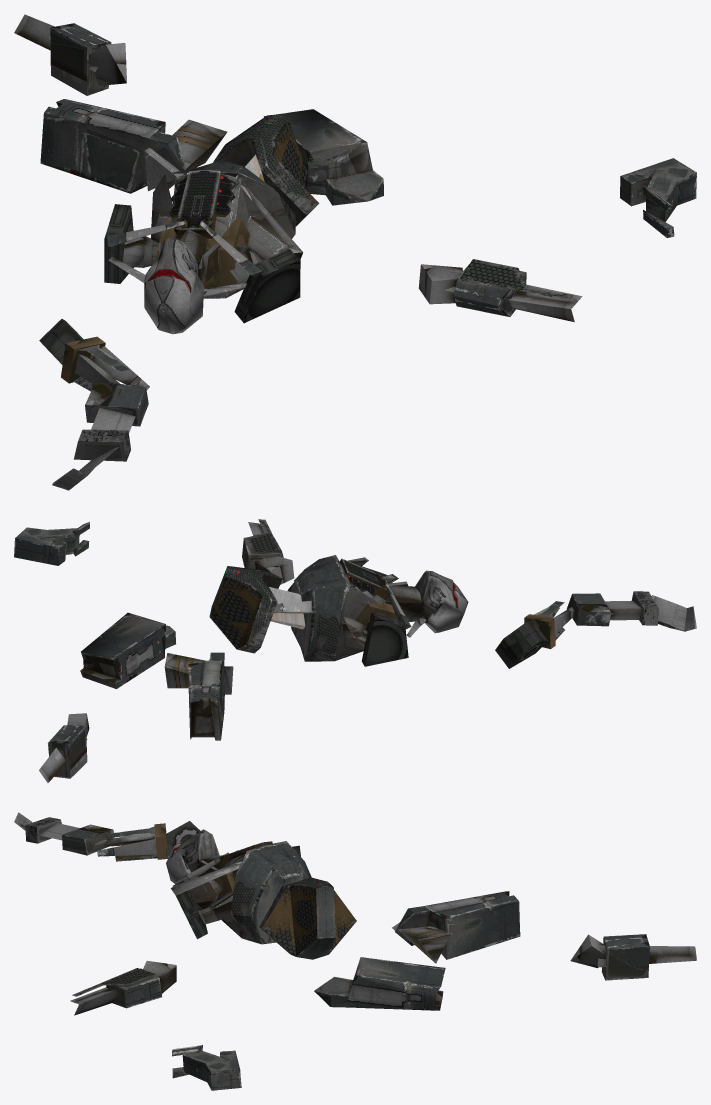
File: Vehicle_Robot004.glb
The picture shows the model from 3 angles, top to bottom: view 1: azimuth 30°, elevation 25°; view 2: azimuth 150°, elevation 25°; view 3: azimuth 270°, elevation 25°; orthographic projection. The views are drawn at different scales.
Visible parts, largest first — view 1: tianwang_robot004; view 2: tianwang_robot004; view 3: tianwang_robot004.
Boxes of the visible parts, left/top/right/bottom form: tianwang_robot004: left=14, top=14, right=696, bottom=490; tianwang_robot004: left=14, top=519, right=696, bottom=782; tianwang_robot004: left=14, top=812, right=696, bottom=1090.
Size of the model in its own units: 4.17 by 0.6979 by 4.36.
Materials: 1 (1 with a texture image).
